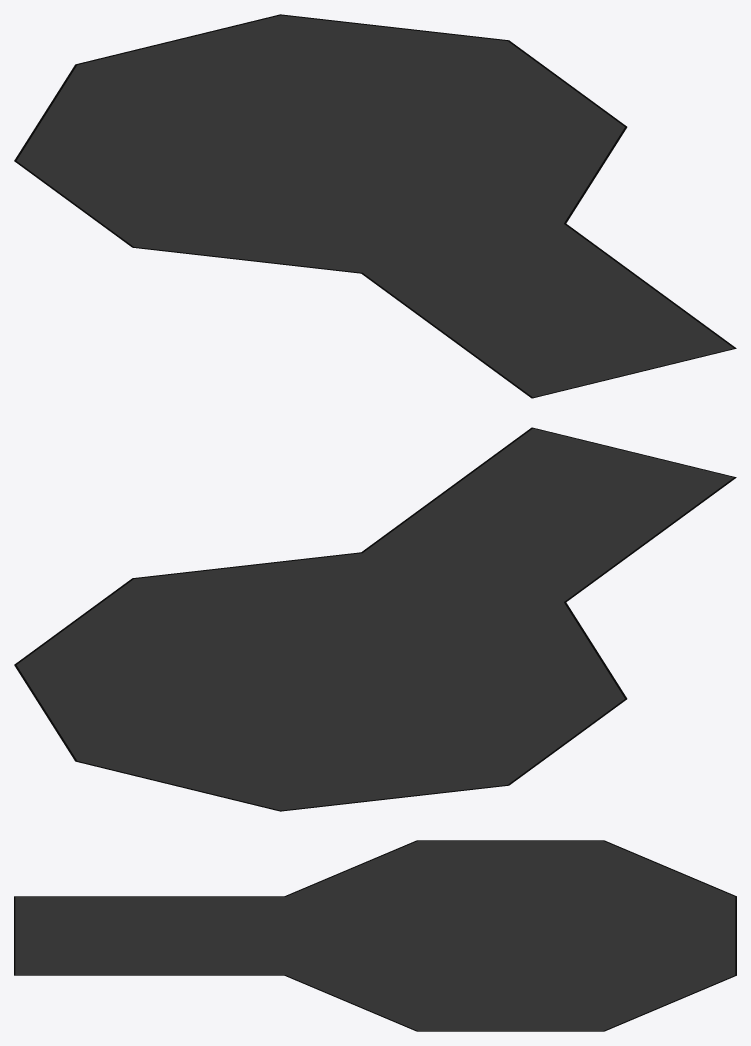
The model's file is ChaoHallPrimeiroAndar.gltf.
3 renders of one model, top to bottom at view 1: azimuth 30°, elevation 25°; view 2: azimuth 150°, elevation 25°; view 3: azimuth 270°, elevation 25°, orthographic. The views are drawn at different scales.
Visible parts, largest first — view 1: Cylinder.001; view 2: Cylinder.001; view 3: Cylinder.001.
Boxes of the visible parts, left/top/right/bottom form: Cylinder.001: left=14, top=14, right=736, bottom=398; Cylinder.001: left=14, top=427, right=736, bottom=811; Cylinder.001: left=14, top=840, right=736, bottom=1031.
Size of the model in its own units: 36.03 by 0.00251 by 57.54.
1 material, 1 textured.
